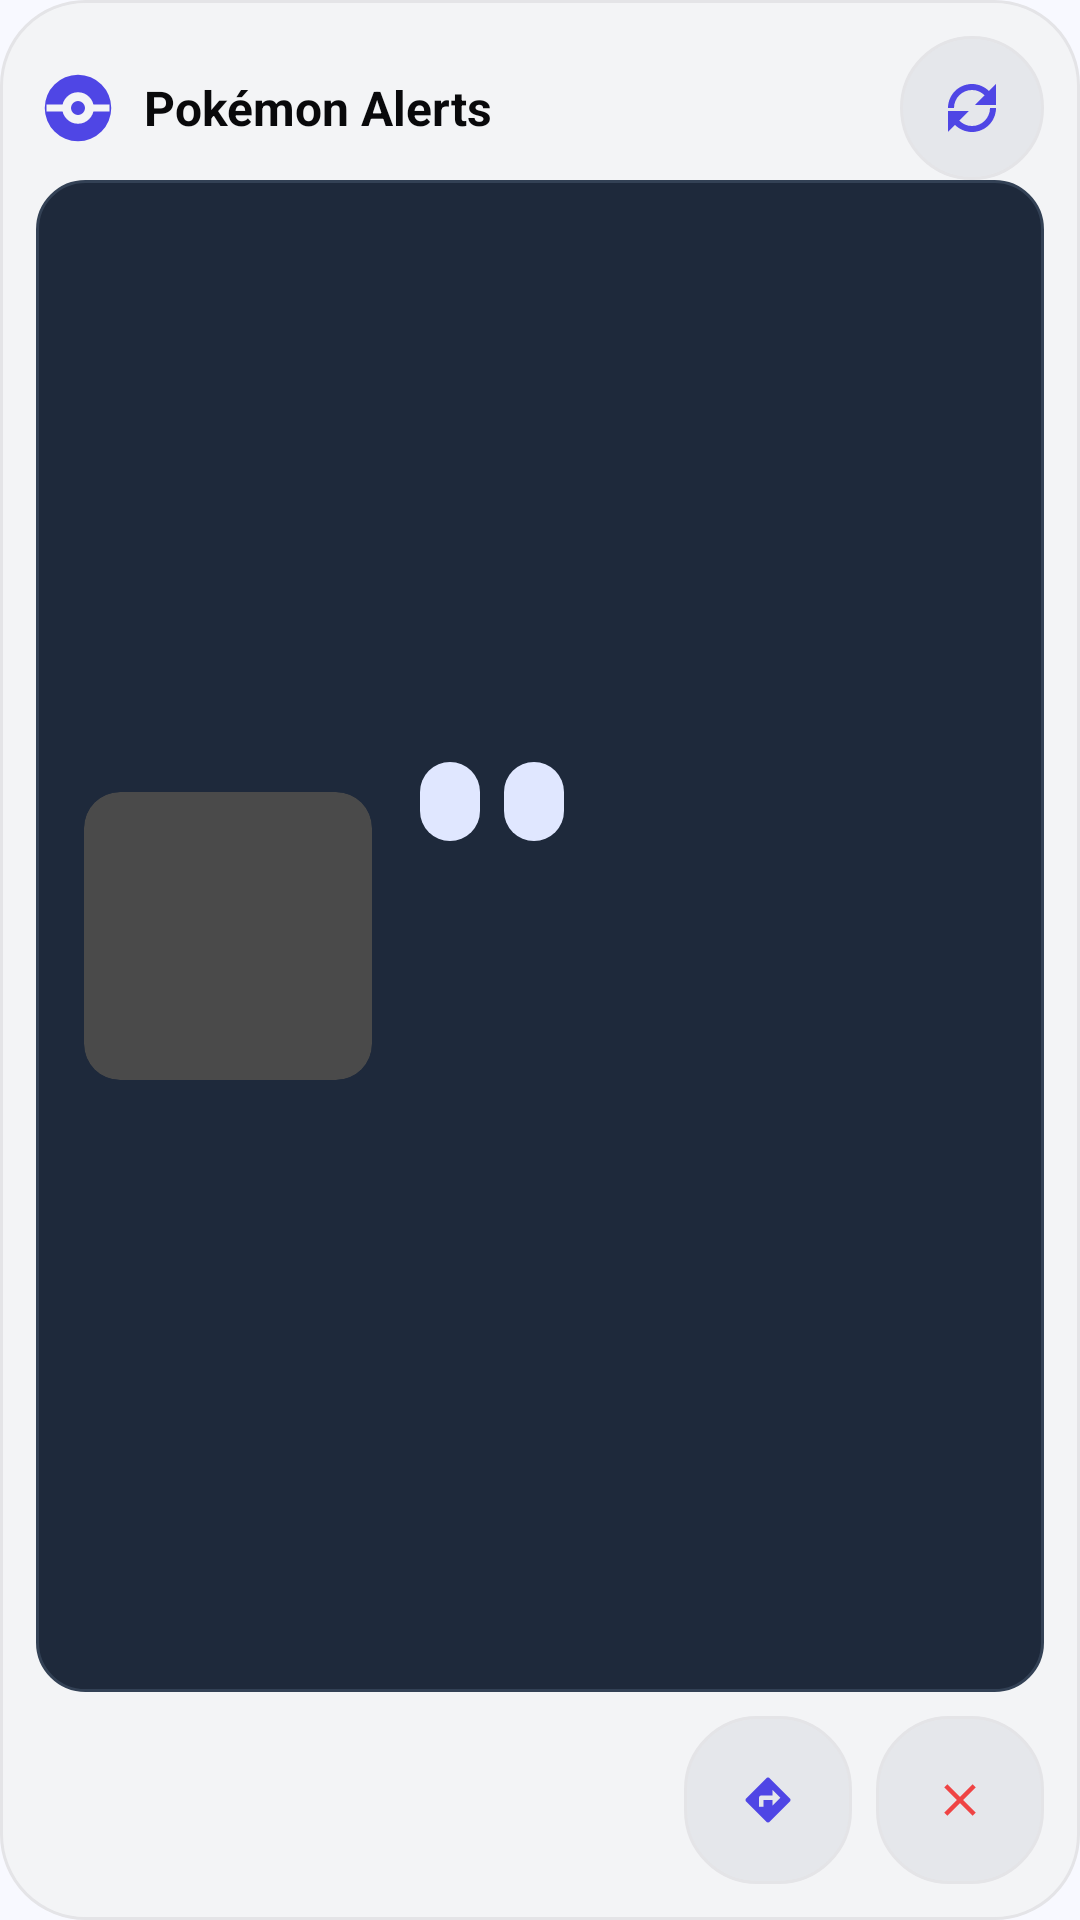

Icon click points for this 1080px x 1920px phone screenshot, format (x=x, y=y):
Dismiss alert: (x=960, y=1800)
Navigate to alert: (x=768, y=1800)
Refresh alerts: (x=972, y=108)
